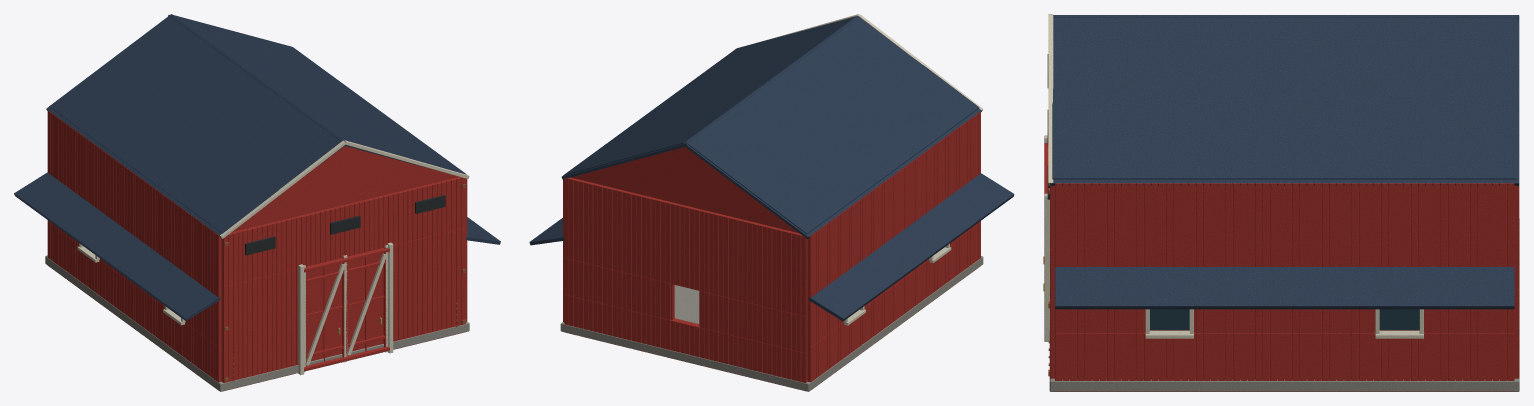
Rendered from BARND2_lod0.glb.
3 renders of one model, left to right at view 1: azimuth 30°, elevation 25°; view 2: azimuth 150°, elevation 25°; view 3: azimuth 270°, elevation 25°, orthographic. The views are drawn at different scales.
Parts seen in each view (by area): view 1: BARND2_LOD0; view 2: BARND2_LOD0; view 3: BARND2_LOD0.
Part boxes in pixels (left/top/right/bottom): BARND2_LOD0: left=14, top=14, right=500, bottom=391; BARND2_LOD0: left=529, top=14, right=1014, bottom=391; BARND2_LOD0: left=1043, top=14, right=1519, bottom=391.
Size of the model in its own units: 11.71 by 7.84 by 11.41.
Materials: 11 (8 with a texture image).
